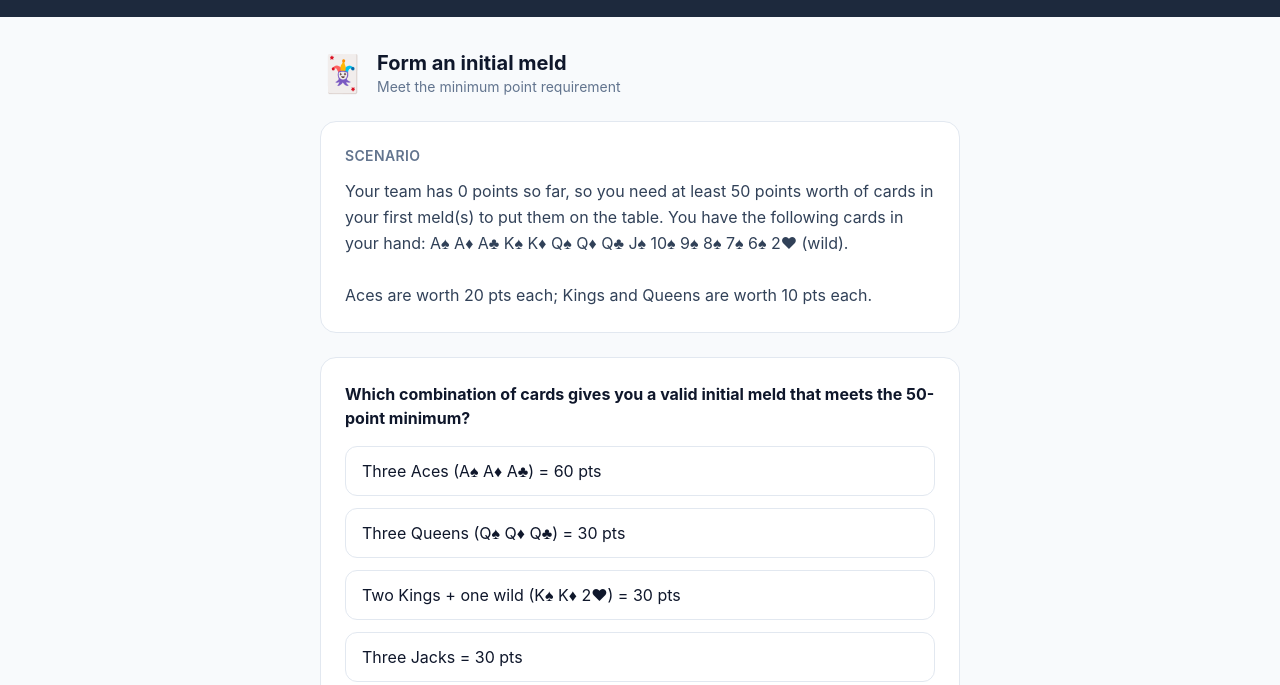
Test: PracticeScenario › resets the answer state when Try again is clicked
The image size is (1280, 685).
Click the button "Three Queens (Q♠ Q♦ Q♣) = 30 pts" at [494, 533], box [345,508,935,558]
(page scrolled)
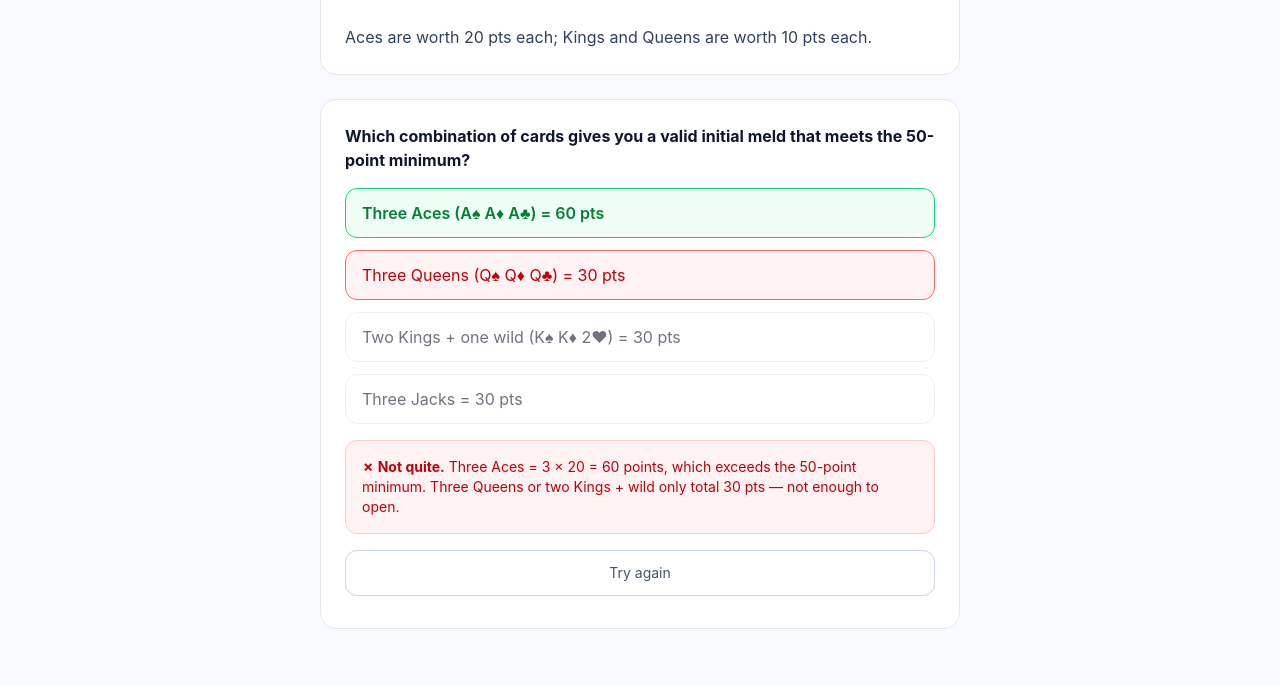
Click the button "Try again" at [640, 573], box [345,550,935,596]
(page scrolled)
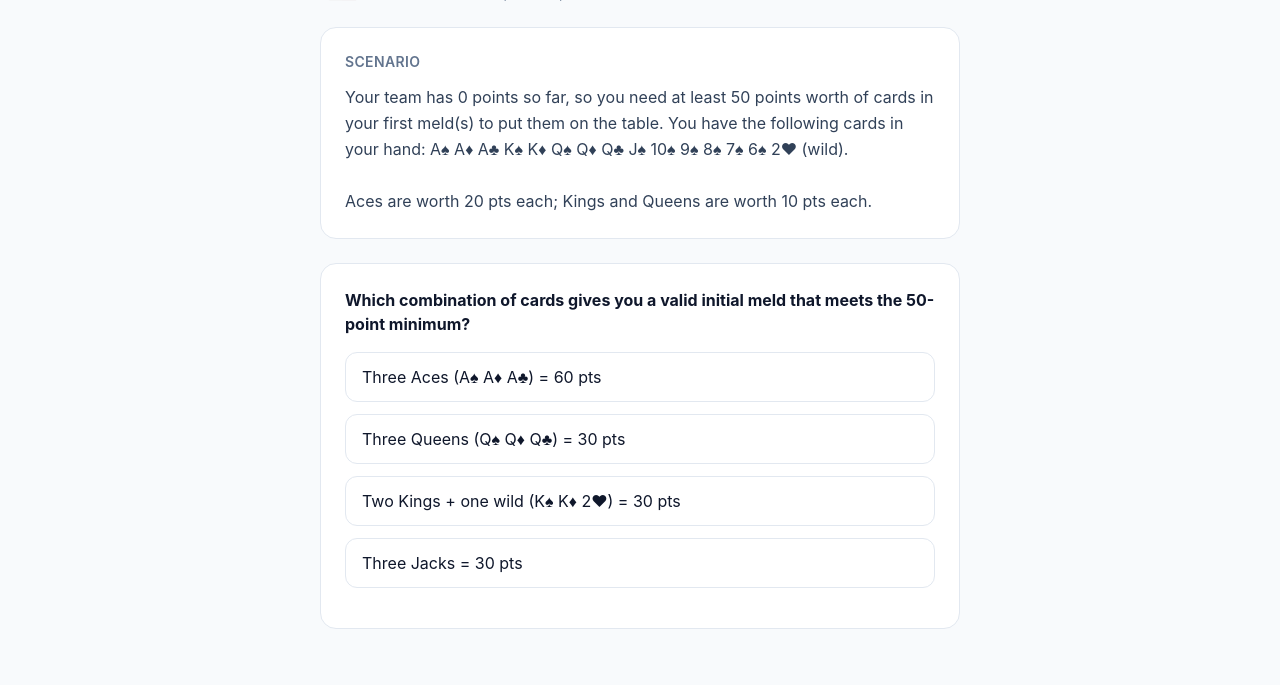
Expected: the text "Not quite" is gone
Expected: the button "Try again" is gone
